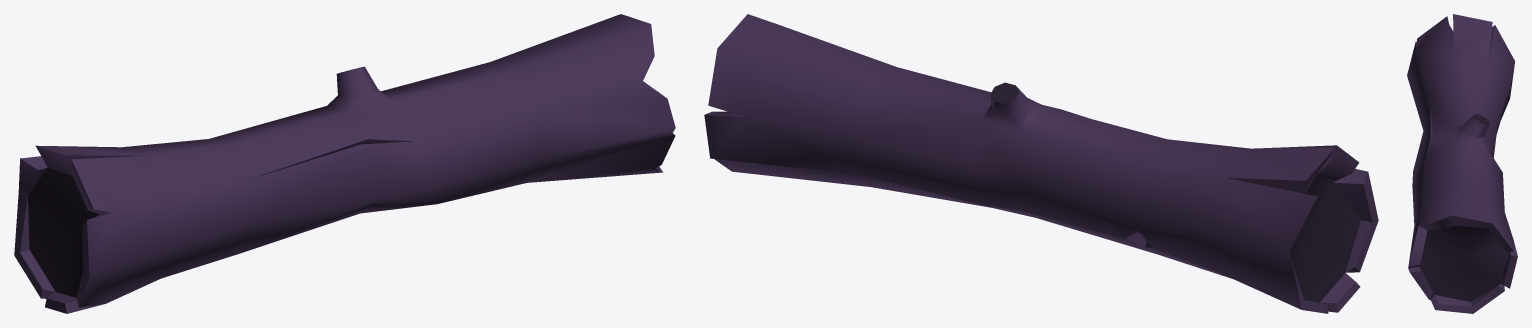
The model's file is Log1.fbx.
3 renders of one model, left to right at view 1: azimuth 30°, elevation 25°; view 2: azimuth 150°, elevation 25°; view 3: azimuth 270°, elevation 25°, orthographic. The views are drawn at different scales.
Visible parts, largest first — view 1: Log1; view 2: Log1; view 3: Log1.
Part boxes in pixels (left/top/right/bottom): Log1: left=14, top=14, right=675, bottom=313; Log1: left=704, top=14, right=1378, bottom=313; Log1: left=1407, top=14, right=1517, bottom=313.
Size of the model in its own units: 135 by 33.69 by 31.96.
